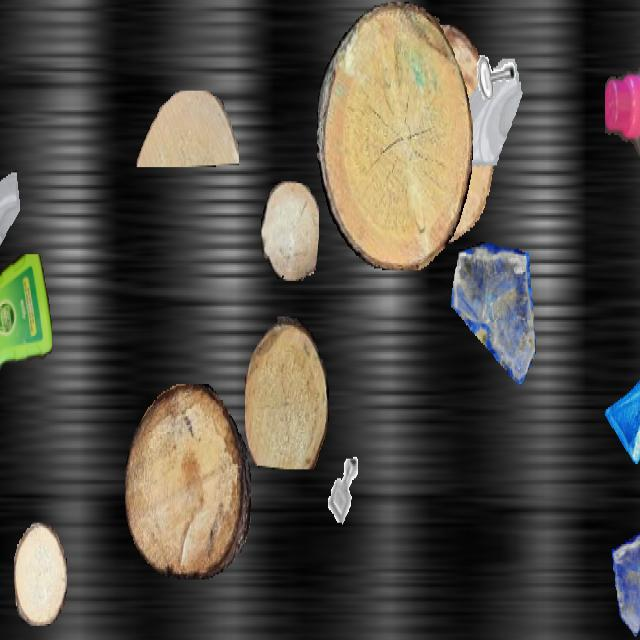glass: (451, 242, 535, 391), (451, 58, 527, 194), (604, 357, 640, 464), (611, 528, 640, 638), (0, 171, 22, 281)
metal: (466, 2, 520, 98), (318, 444, 370, 537)
plastic: (0, 255, 52, 390), (605, 32, 640, 224)
wood: (317, 2, 473, 268), (377, 25, 495, 245), (125, 384, 251, 580), (245, 316, 329, 469), (136, 91, 238, 165), (261, 181, 319, 281), (14, 522, 66, 626)
